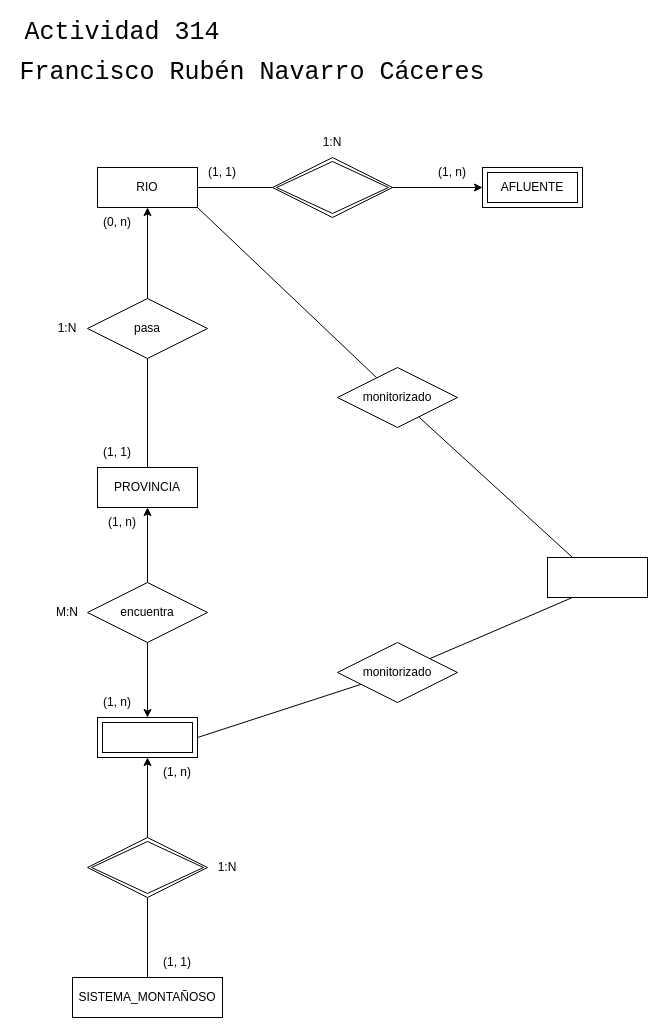
The diagram is 665 pixels wide and 1035 high, and some of its shapes have lost their labels. The shapes that lost their labels are listed below. From the top down, each one's centre as x and y in pixels, then its label:
At [332,187]: "Id tiene".
At [597,577]: "SATELITE".
At [147,737]: "MONTE".
At [147,867]: "Id formado".
